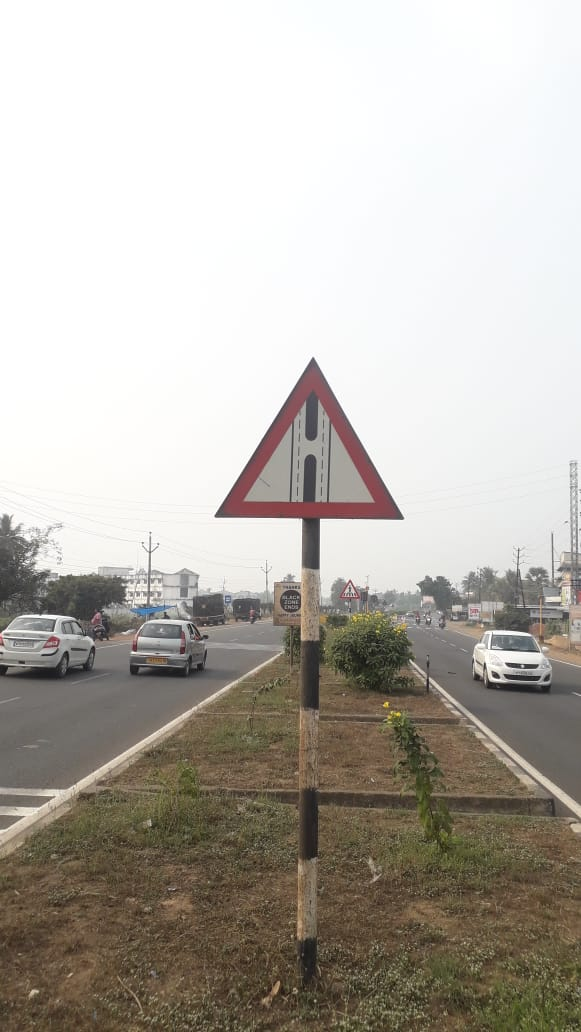highway go straight: (214, 339, 403, 539)
